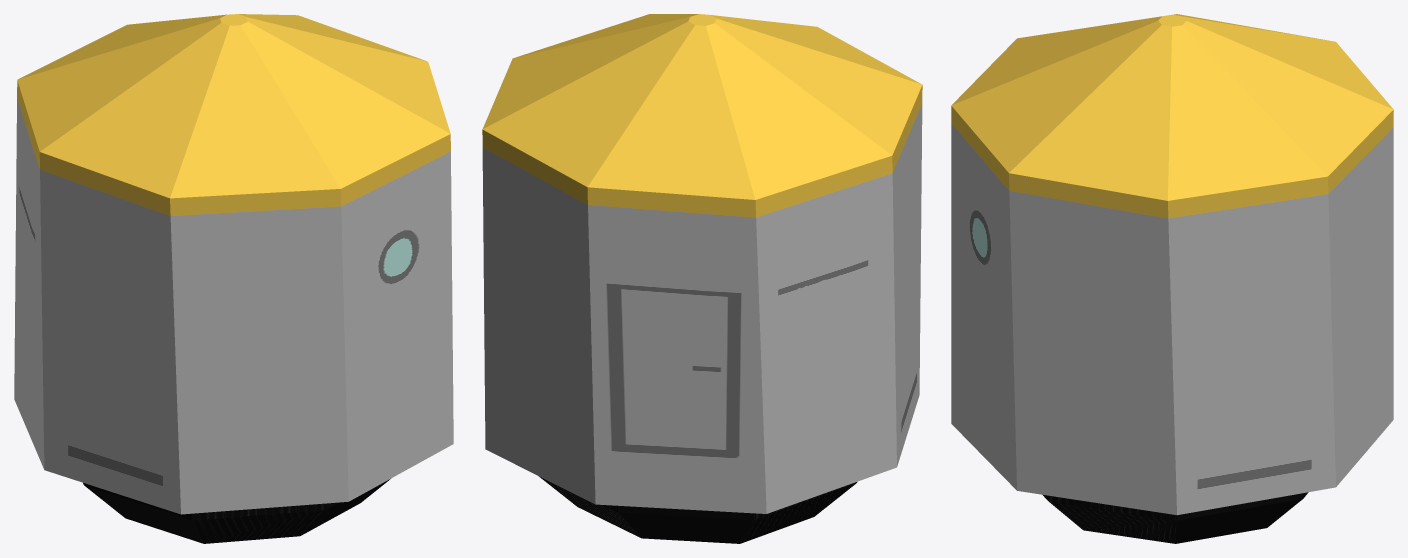
File: nave.fbx
3 renders of one model, left to right at view 1: azimuth 30°, elevation 25°; view 2: azimuth 150°, elevation 25°; view 3: azimuth 270°, elevation 25°, orthographic.
Parts seen in each view (by area): view 1: Cylinder; view 2: Cylinder; view 3: Cylinder.
Part boxes in pixels (x1=…): Cylinder: x1=14, y1=14, x2=453, y2=543; Cylinder: x1=482, y1=14, x2=922, y2=543; Cylinder: x1=951, y1=14, x2=1393, y2=543.
Bounding box in the file's own units: 255 × 299 × 255.
Materials: 1 (1 with a texture image).
